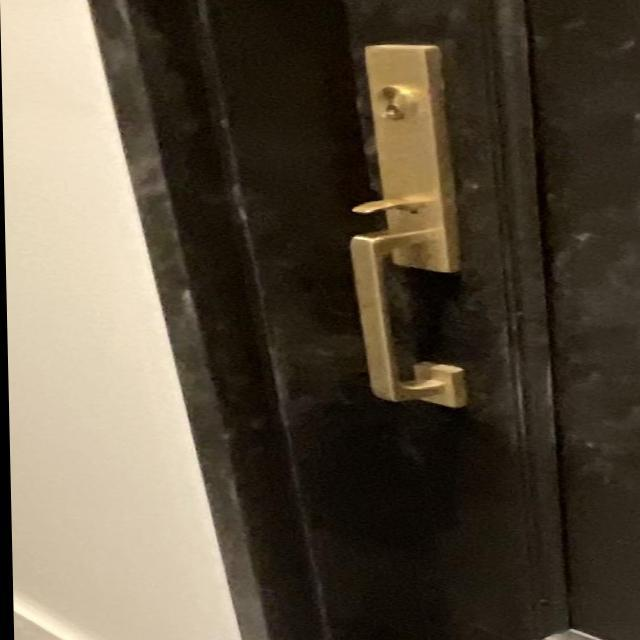door_handle: (324, 221, 493, 415)
